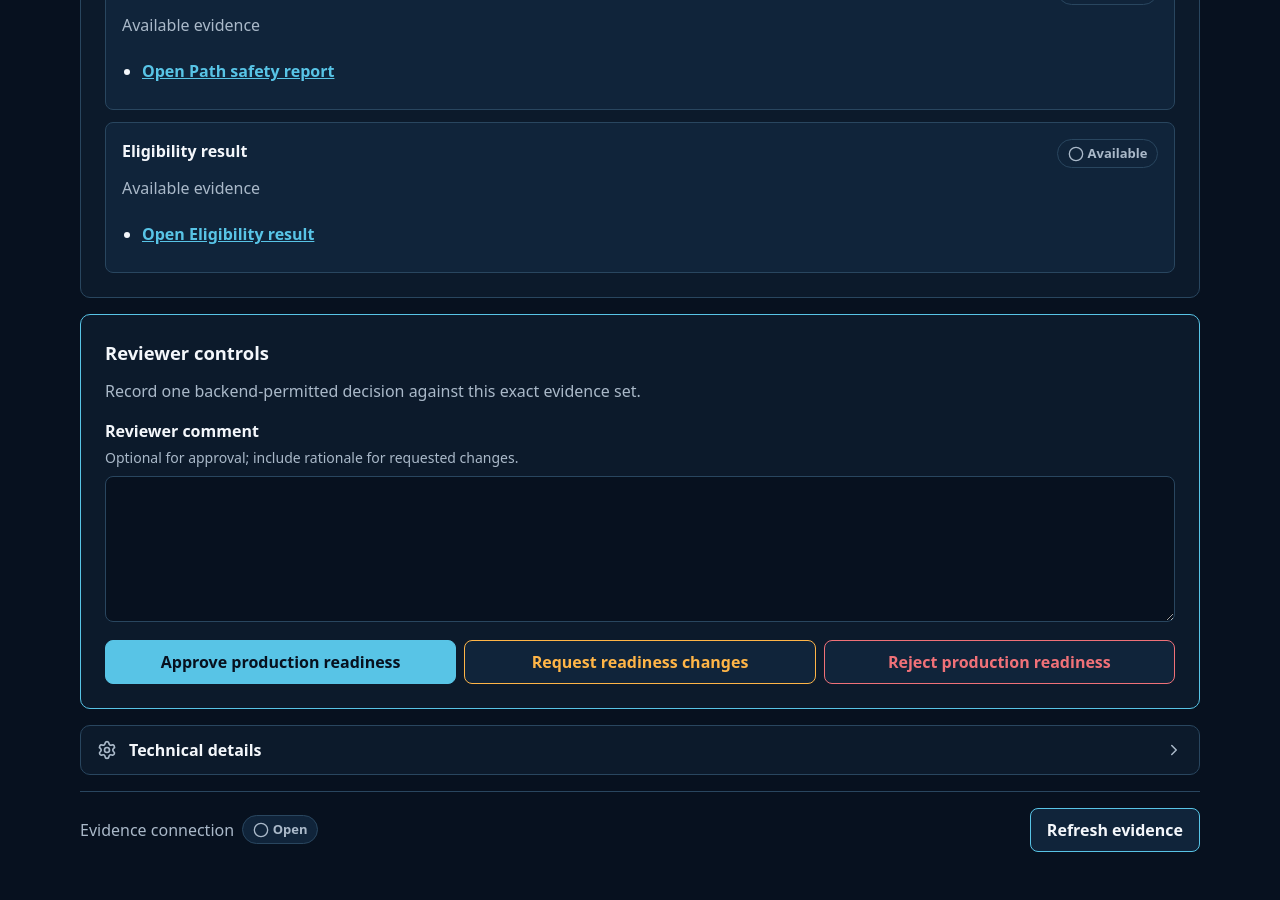
Test: G01ReviewPanel › rejects refreshed evidence bound to another preflight
(page scrolled)
Step 1. Click the button "Refresh evidence" → (1115,830), box [1030,808,1200,852]
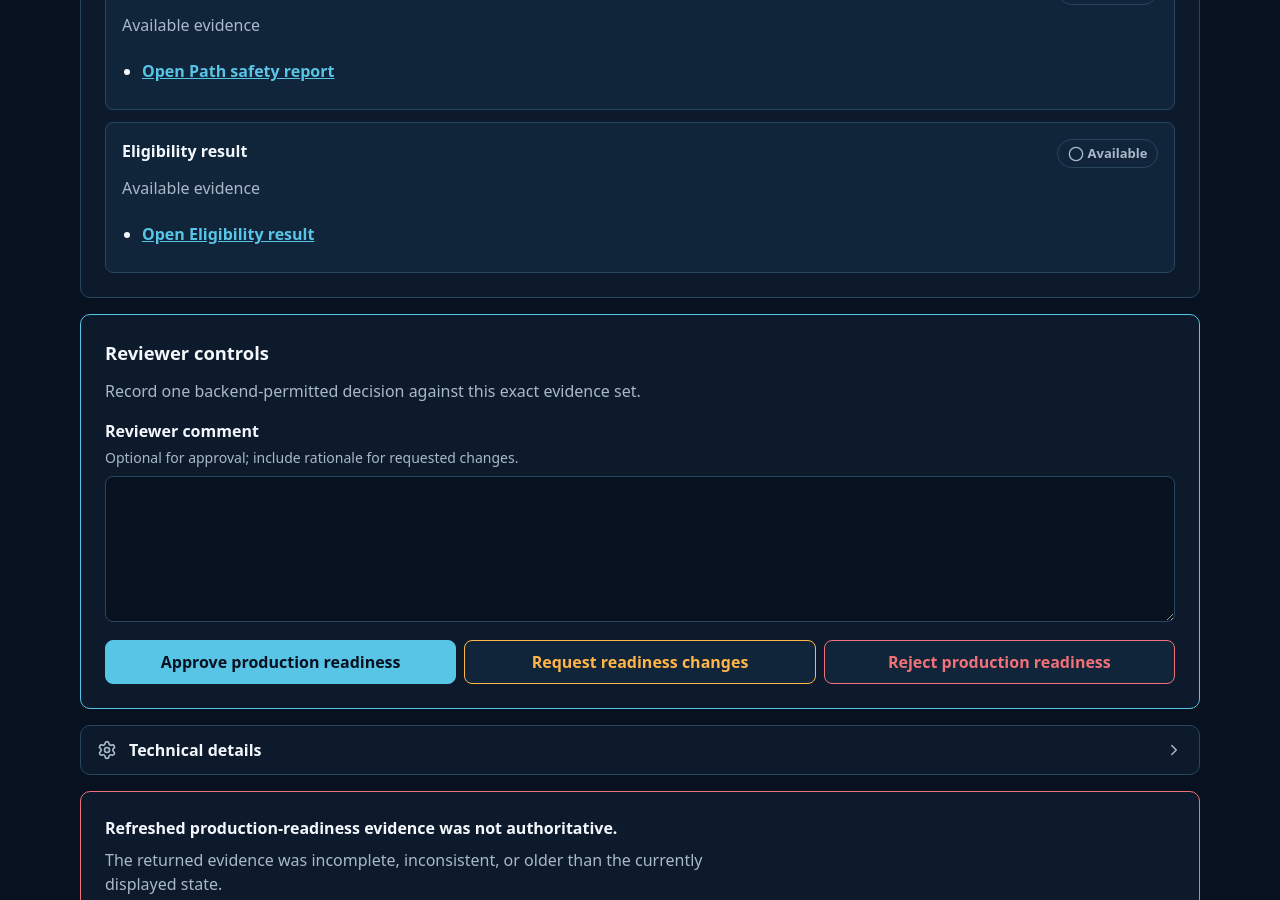
Check: the button "Approve production readiness" is enabled, box [105,640,456,684]
Check: the text "Refreshed production-readiness evidence was not authoritative." is shown, box [105,817,617,839]
